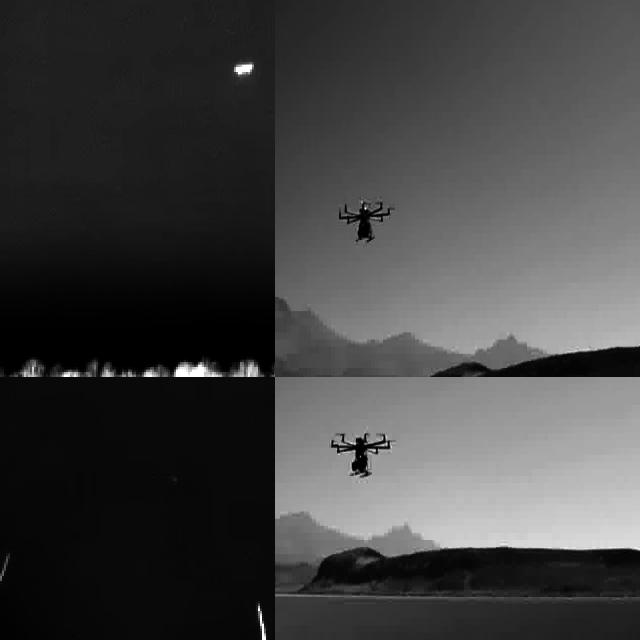0: (167, 470, 189, 497)
1: (212, 50, 275, 93)
drone: (334, 190, 396, 246), (332, 426, 393, 476)
